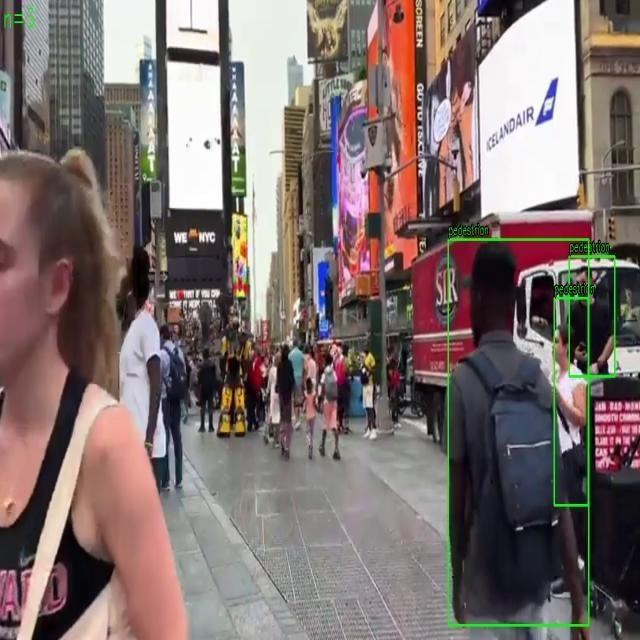person: (448, 239, 589, 626), (554, 298, 588, 506), (569, 256, 615, 377)
